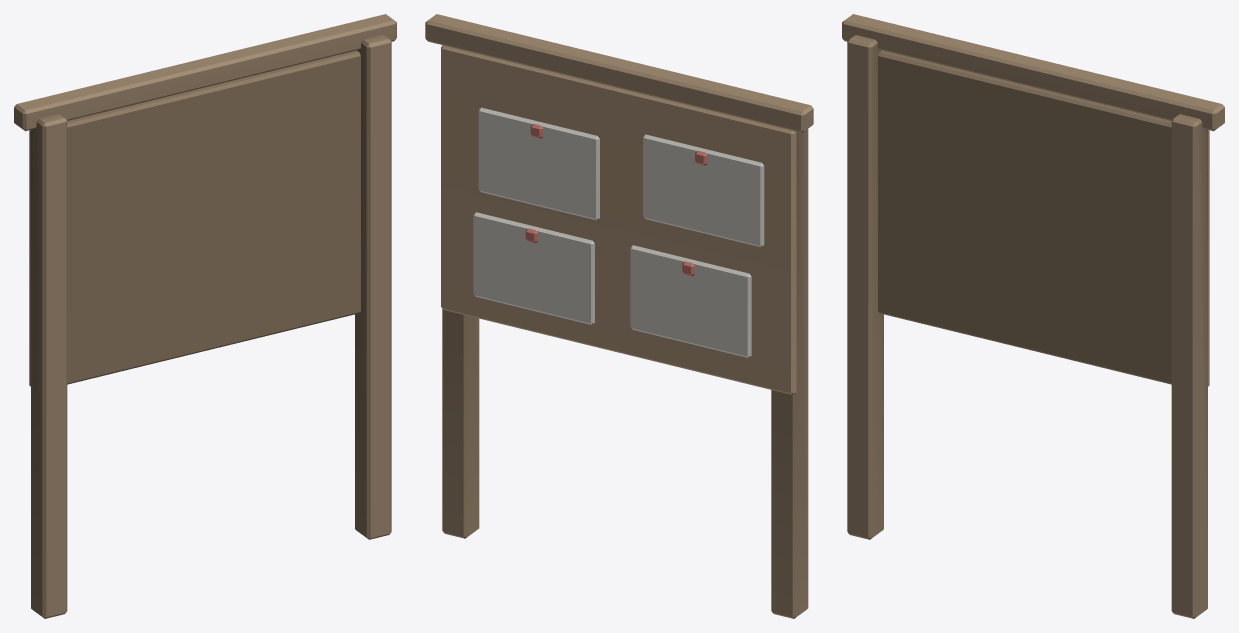
The model's file is jail_board.glb.
3 renders of one model, left to right at view 1: azimuth 30°, elevation 25°; view 2: azimuth 150°, elevation 25°; view 3: azimuth 330°, elevation 25°, orthographic.
Size of the model in its own units: 1.5 by 1.94 by 0.145.
